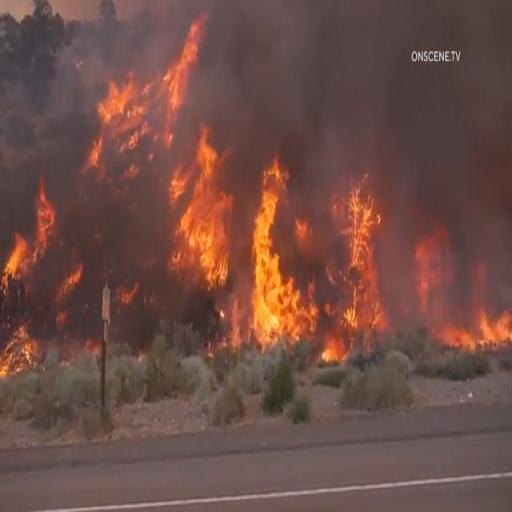fire: (74, 23, 202, 202), (238, 152, 313, 355), (153, 165, 231, 329), (312, 186, 374, 369), (443, 280, 512, 364), (0, 228, 31, 297)
smoke: (219, 8, 392, 149), (382, 78, 508, 200), (0, 35, 54, 169)
